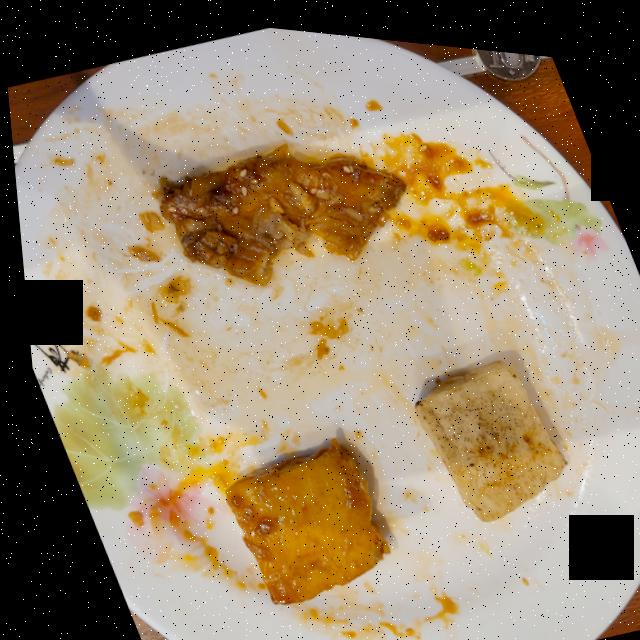Kabayaki sea bream fillet: (155, 148, 402, 281)
coin: (472, 39, 542, 70)
creamy tofu: (216, 432, 380, 599)
creamy tofu -without sauce-: (408, 351, 559, 512)
